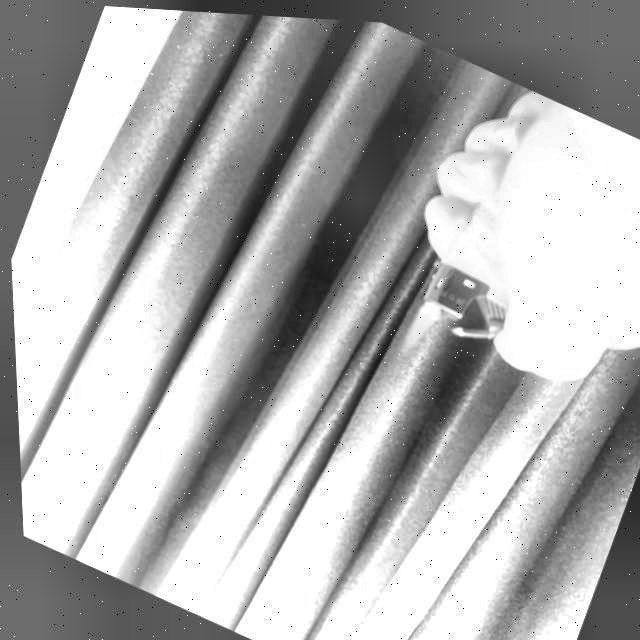Fire: (394, 292, 444, 358)
